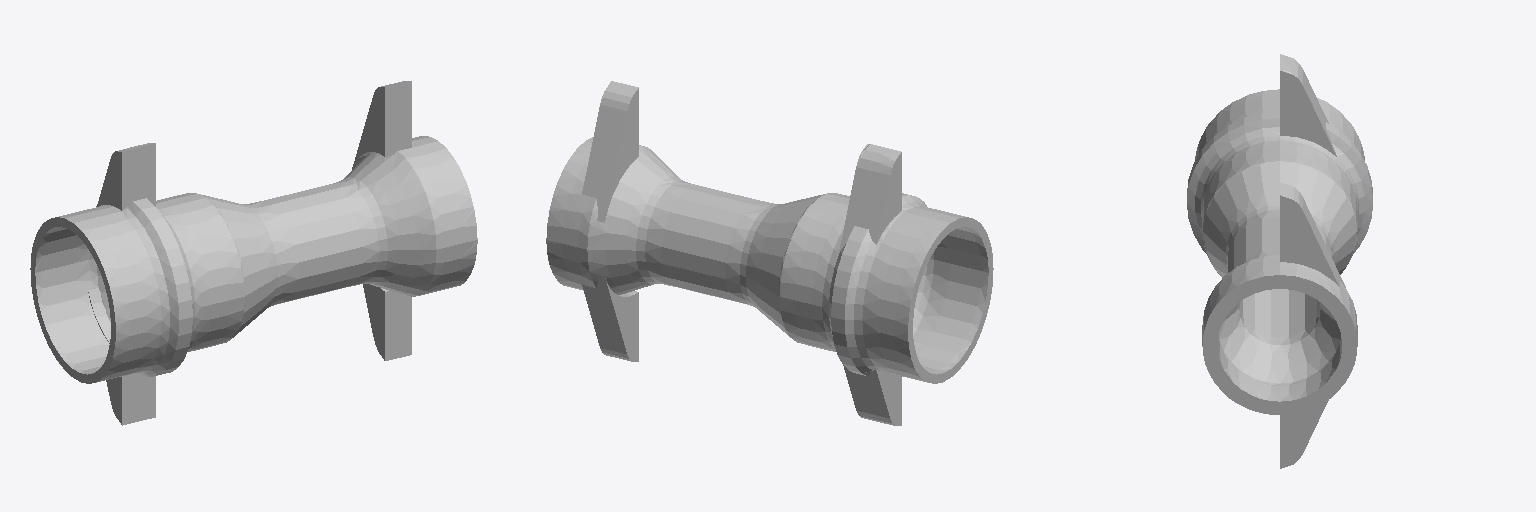
Rendered from lowspeed_shaft_house.obj.
The picture shows the model from 3 angles: view 1: azimuth 30°, elevation 25°; view 2: azimuth 150°, elevation 25°; view 3: azimuth 270°, elevation 25°; orthographic projection.
Parts seen in each view (by area): view 1: 1; view 2: 1; view 3: 1.
Part boxes in pixels (bbox=[...]): 1: bbox=[30, 81, 477, 425]; 1: bbox=[546, 81, 993, 425]; 1: bbox=[1187, 54, 1372, 468].
Bounding box in the file's own units: 1606 × 1150 × 710.